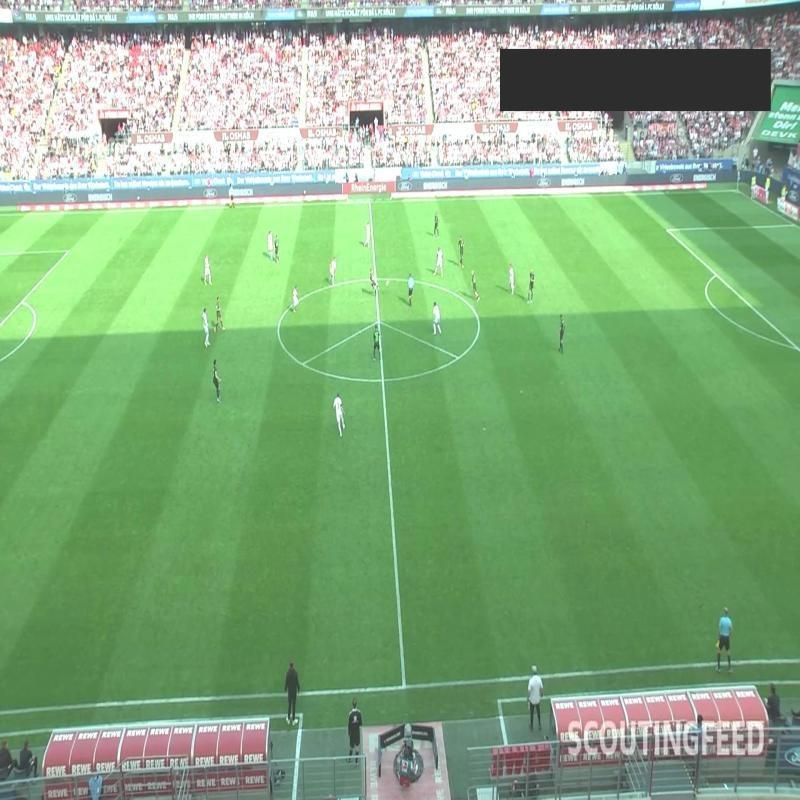1: (730, 184, 744, 198)
10: (14, 294, 30, 310), (708, 266, 722, 280)
11: (792, 343, 800, 352)
13: (363, 194, 377, 208)
14: (368, 271, 382, 285)
15: (376, 374, 390, 388)
16: (396, 677, 412, 696)
2: (786, 218, 800, 232)
9: (57, 242, 78, 260), (661, 222, 676, 236)
c: (471, 316, 485, 330), (272, 322, 285, 335)
